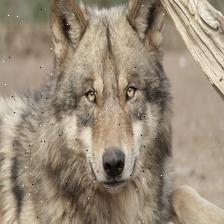WOLF: (0, 0, 167, 223)
